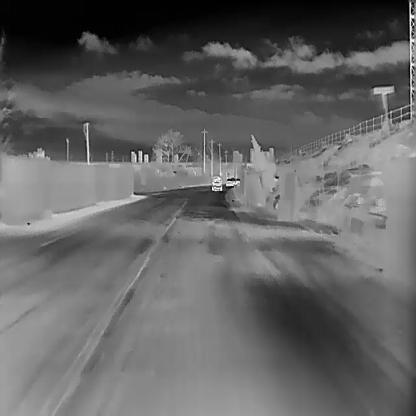car: (211, 176, 222, 190), (226, 178, 233, 185), (230, 176, 235, 184), (235, 178, 240, 183)
